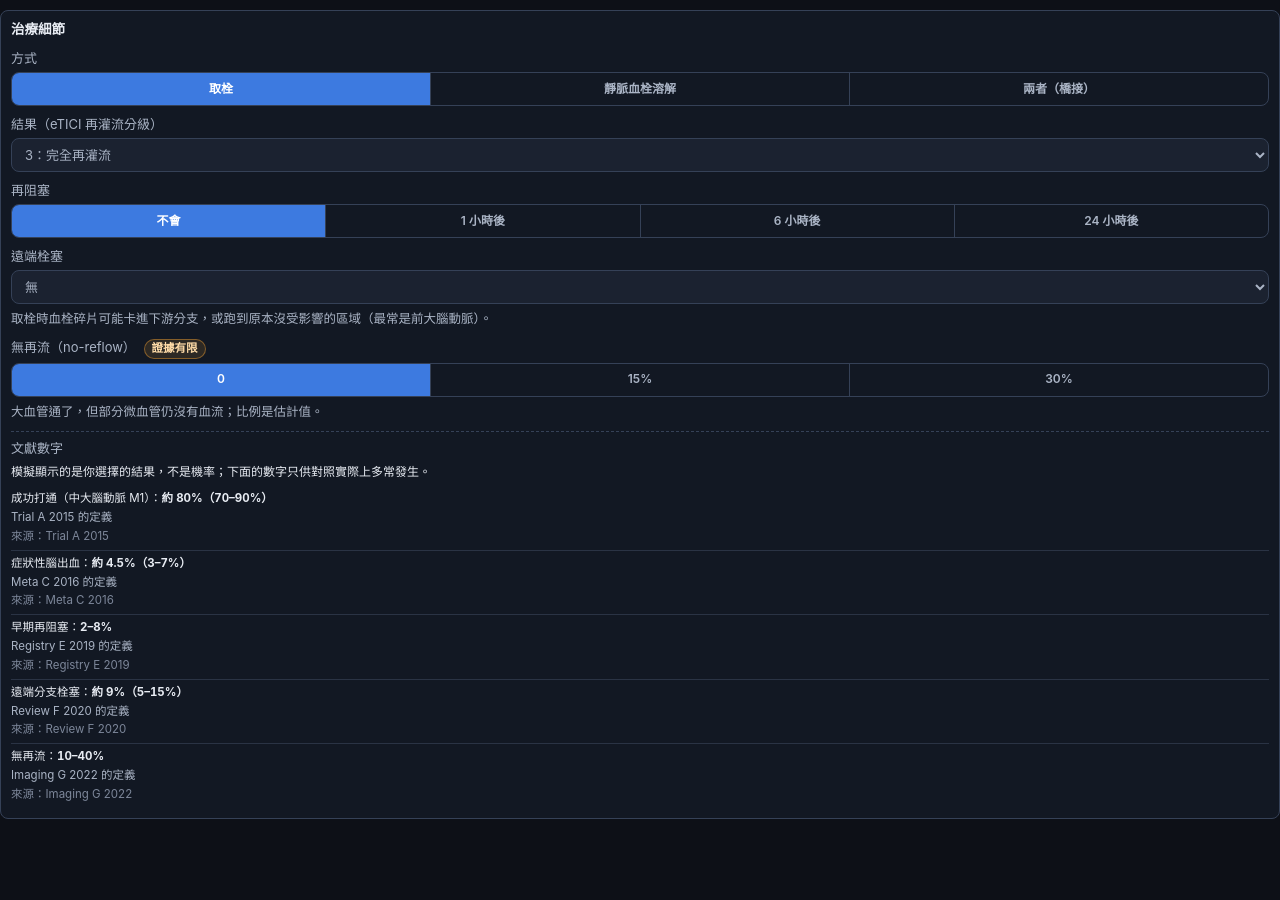
Test: published figures › shows each figure with its note and source, and says the simulation is the chosen result
Expected: the text "模擬顯示的是你選擇的結果，不是機率；下面的數字只供對照實際上多常發生。" is shown, [11,464,431,479]
Expected: the text "Trial A 2015 的定義" is shown, [11,510,112,524]
Click the radio button labelled "靜脈血栓溶解".
click(640, 89)  # box [430,73,849,105]
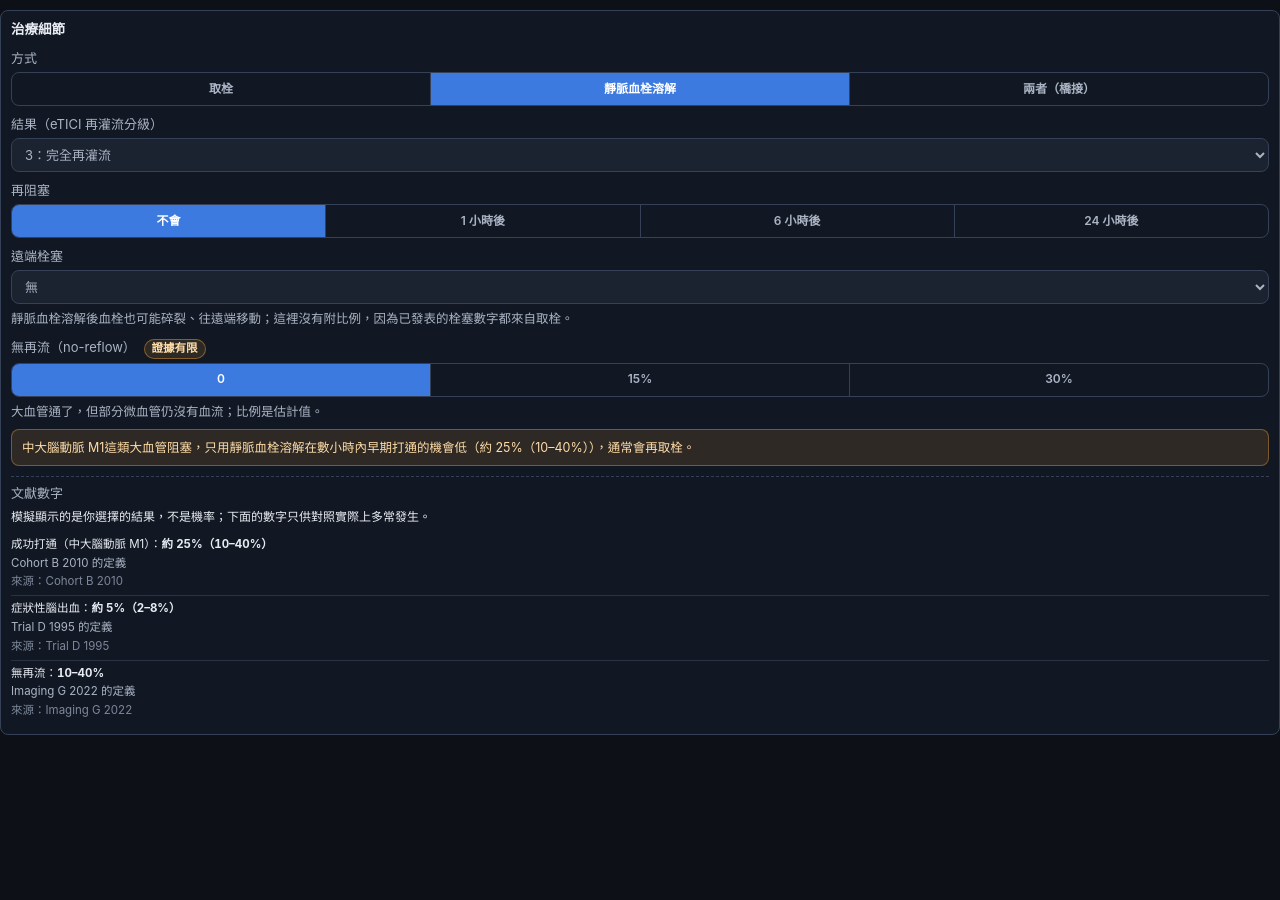
Expected: the text "Cohort B 2010 的定義" is shown, [11,556,126,570]
Expected: the text "Review F 2020 的定義" is gone
